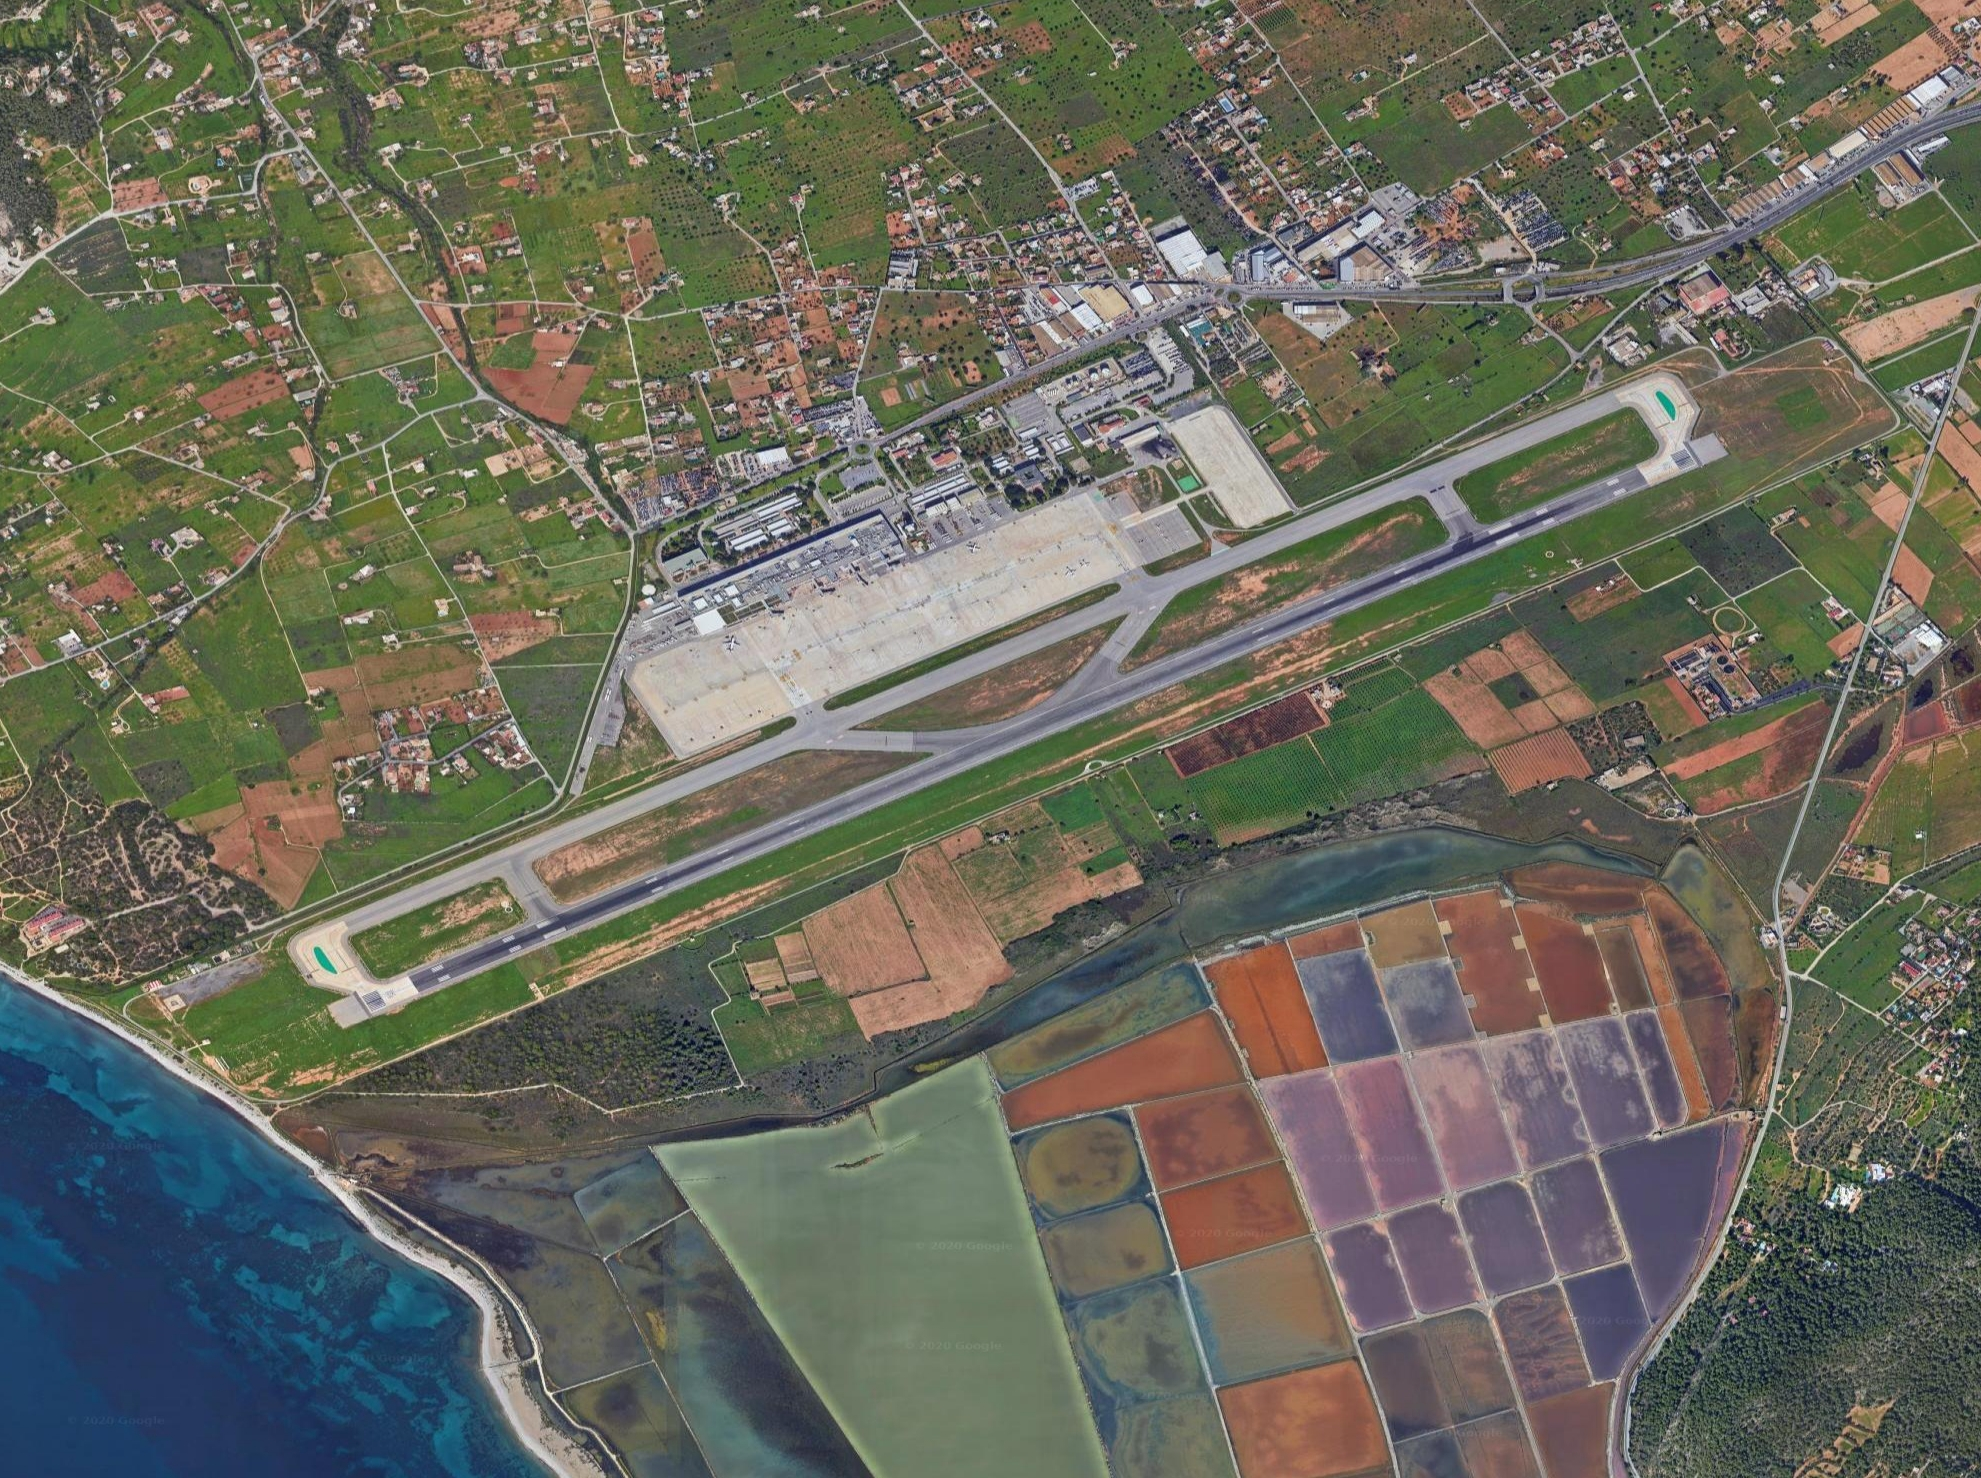airport: (286, 366, 1731, 1029)
motorway: (879, 247, 1136, 387), (1130, 200, 1383, 324)
